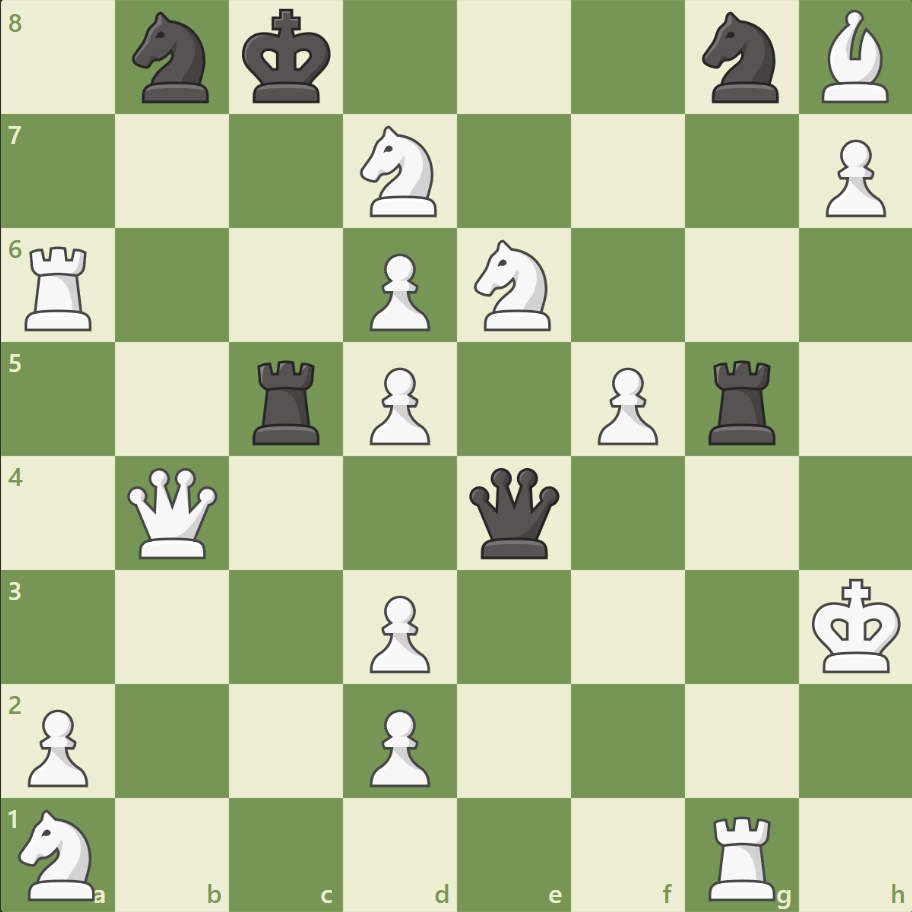B: (812, 6, 896, 109)
K: (806, 571, 906, 679)
N: (351, 121, 449, 223), (465, 234, 562, 337), (11, 802, 108, 904)
P: (20, 700, 95, 791), (815, 132, 889, 223), (361, 246, 435, 337), (361, 359, 435, 450), (588, 359, 662, 450), (361, 586, 435, 677), (361, 700, 435, 791)
Q: (124, 463, 223, 562)
R: (700, 806, 783, 904), (19, 239, 102, 336)
k: (238, 4, 338, 112)
n: (124, 7, 222, 110), (692, 7, 789, 110)
q: (464, 463, 563, 562)
r: (246, 352, 329, 449), (700, 352, 783, 449)
